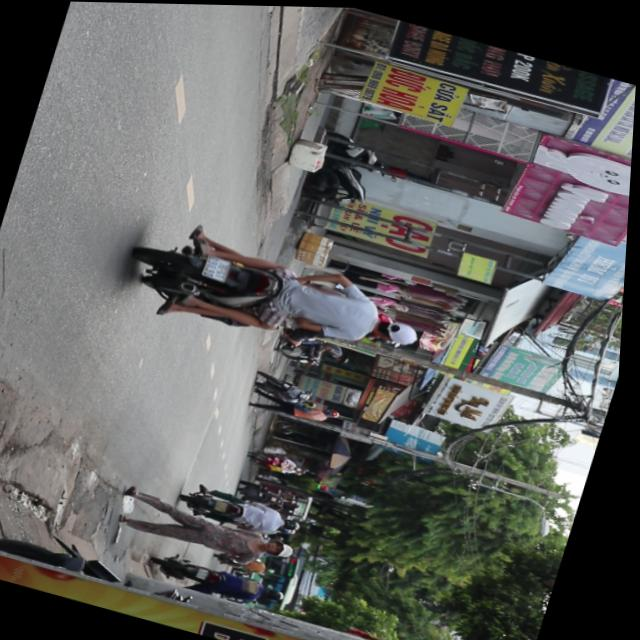licenseplate: (119, 210, 443, 381)
motorcyclist: (374, 311, 427, 349), (207, 254, 236, 279)
